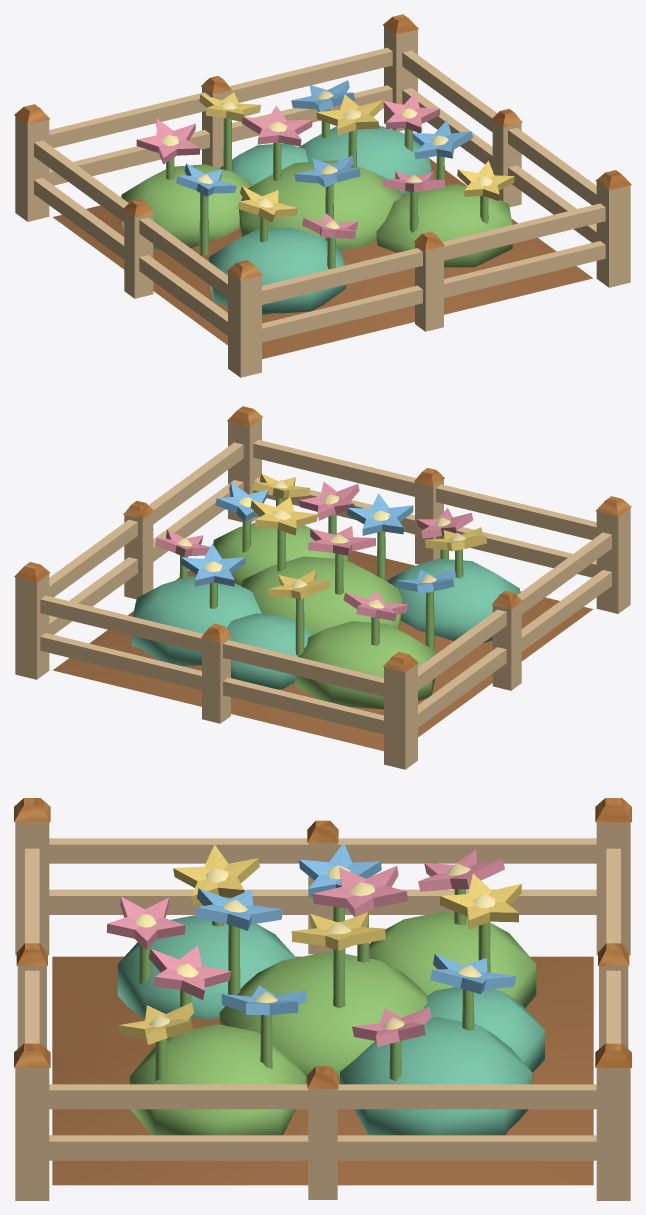
The model's file is decor_parterre.glb.
3 renders of one model, top to bottom at view 1: azimuth 30°, elevation 25°; view 2: azimuth 150°, elevation 25°; view 3: azimuth 270°, elevation 25°, orthographic. The views are drawn at different scales.
Visible parts, largest first — view 1: decor_parterre; view 2: decor_parterre; view 3: decor_parterre.
Part boxes in pixels (x1=…): decor_parterre: x1=14, y1=14, x2=631, y2=377; decor_parterre: x1=14, y1=406, x2=631, y2=769; decor_parterre: x1=14, y1=798, x2=631, y2=1200.
Size of the model in its own units: 1.53 by 0.4768 by 1.53.
Materials: 9 (1 with a texture image).
